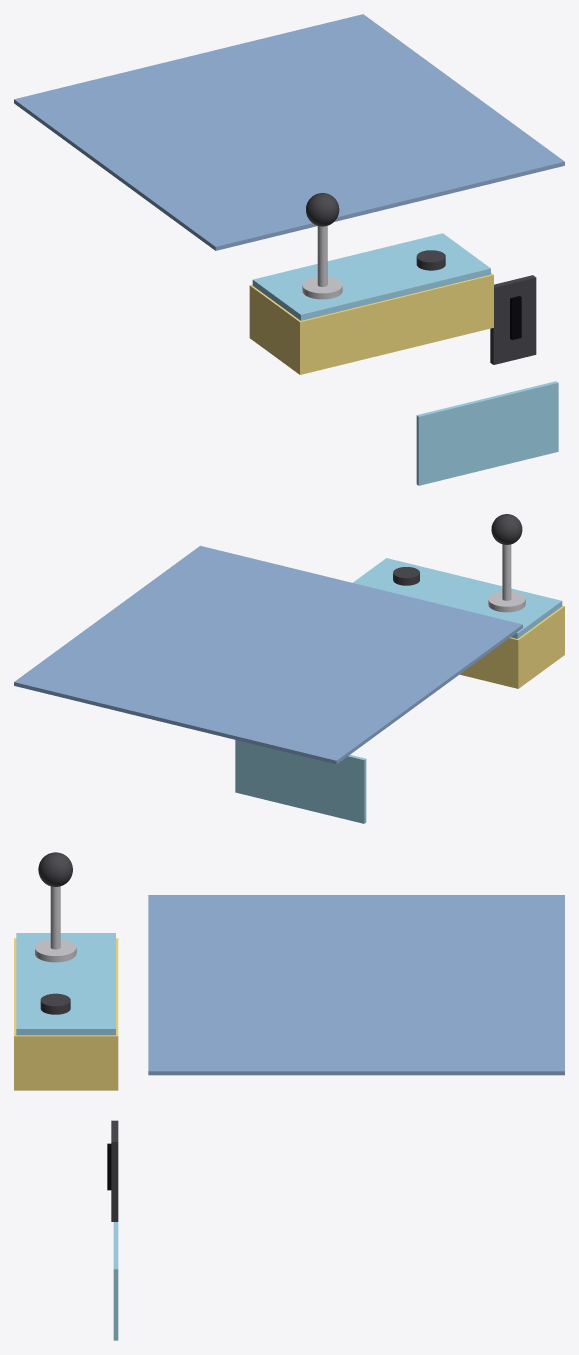
The model's file is control_panel.glb.
The picture shows the model from 3 angles, top to bottom: view 1: azimuth 30°, elevation 25°; view 2: azimuth 150°, elevation 25°; view 3: azimuth 270°, elevation 25°; orthographic projection. The views are drawn at different scales.
Visible parts, largest first — view 1: 玩區地板, 操作台, 藍色窗, 操作台面, 投幣孔底板, 搖桿球, 搖桿底座, 搖桿桿; view 2: 玩區地板, 藍色窗, 操作台面, 操作台, 搖桿球, 搖桿底座, 搖桿桿, 按鈕; view 3: 玩區地板, 操作台面, 操作台, 搖桿球, 投幣孔底板, 搖桿底座, 藍色窗, 搖桿桿.
Part boxes in pixels (<box>): 玩區地板: <box>14,14,564,250</box>; 操作台: <box>249,273,493,374</box>; 藍色窗: <box>416,381,558,485</box>; 操作台面: <box>252,233,490,320</box>; 投幣孔底板: <box>490,275,536,364</box>; 搖桿球: <box>306,193,339,226</box>; 搖桿底座: <box>302,276,342,299</box>; 搖桿桿: <box>317,226,327,286</box>; 玩區地板: <box>14,545,522,764</box>; 藍色窗: <box>235,740,366,823</box>; 操作台面: <box>353,558,562,638</box>; 操作台: <box>460,605,564,688</box>; 搖桿球: <box>491,514,522,544</box>; 搖桿底座: <box>488,591,525,612</box>; 搖桿桿: <box>502,544,511,600</box>; 按鈕: <box>393,567,419,585</box>; 玩區地板: <box>148,895,564,1075</box>; 操作台面: <box>16,933,115,1035</box>; 操作台: <box>14,938,118,1090</box>; 搖桿球: <box>38,852,72,886</box>; 投幣孔底板: <box>111,1120,118,1221</box>; 搖桿底座: <box>35,939,76,962</box>; 藍色窗: <box>113,1222,118,1340</box>; 搖桿桿: <box>50,886,60,949</box>.
Bounding box in the file's own units: 1.8 × 1.69 × 2.38.
